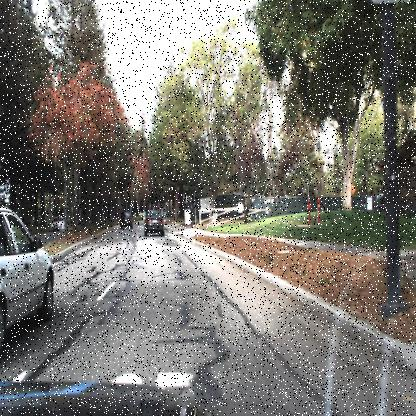car: (0, 203, 56, 348), (144, 209, 164, 236), (118, 211, 132, 233), (49, 216, 66, 232)
